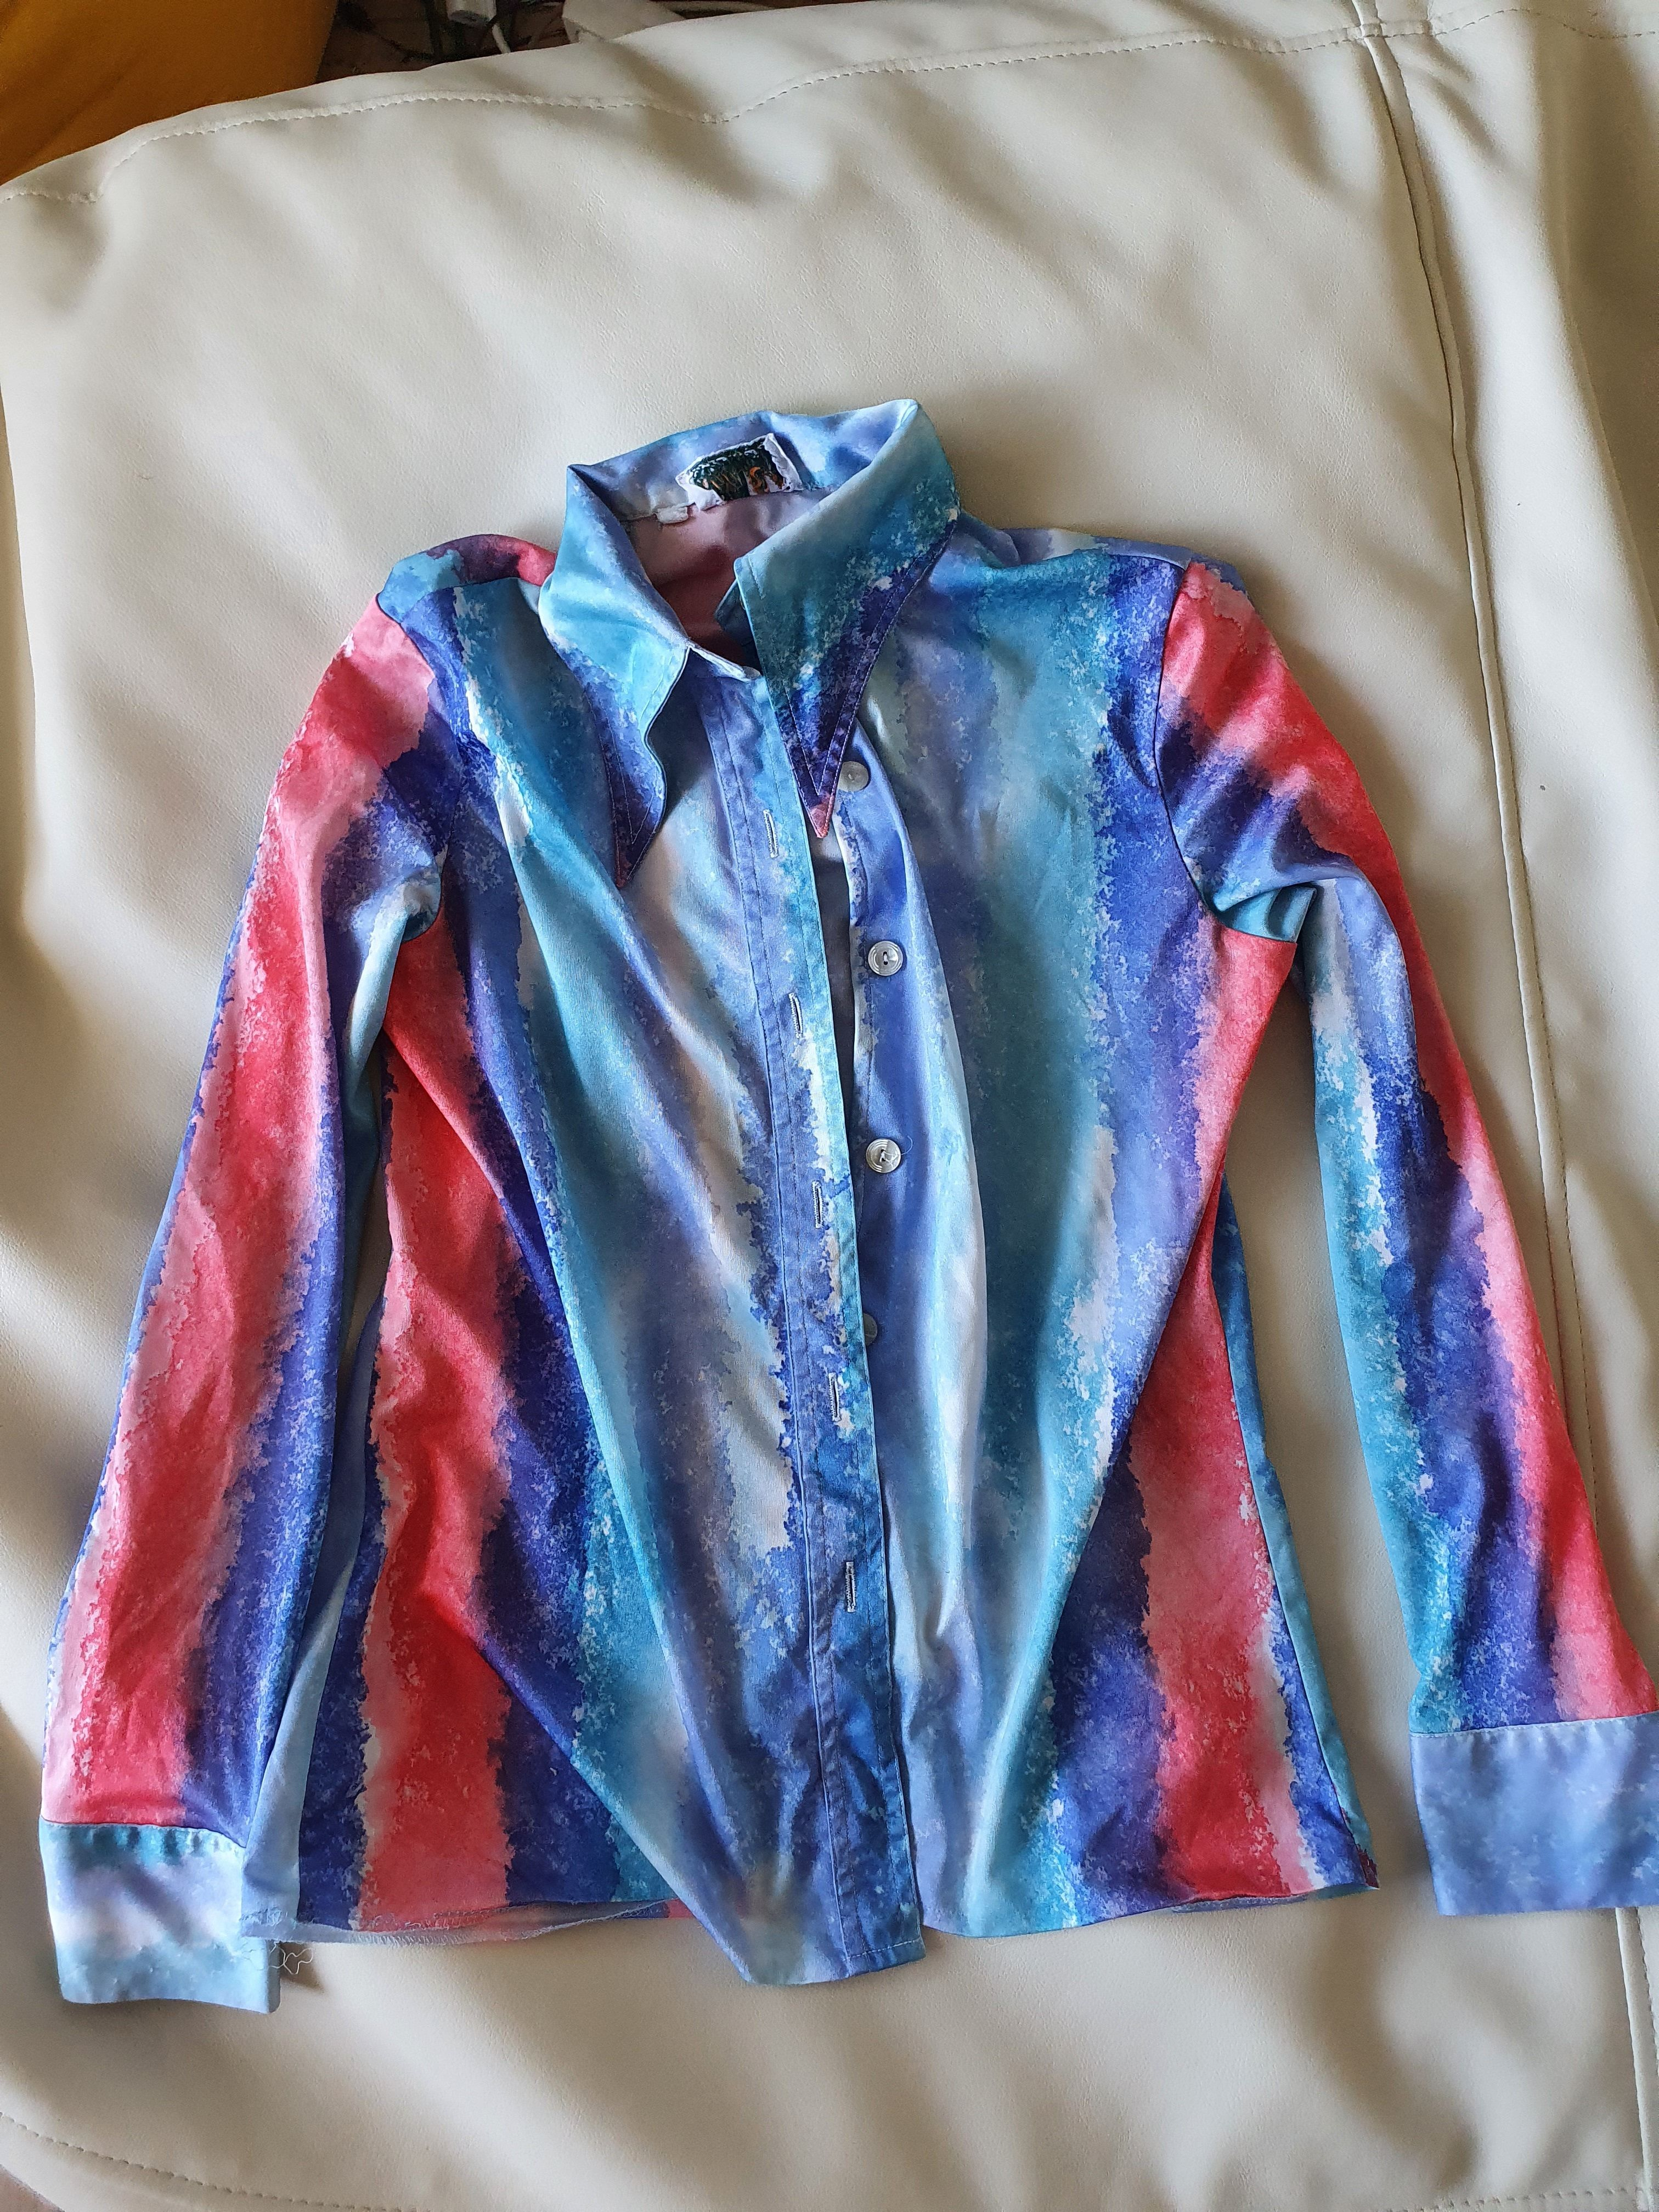clothes: (49, 402, 1659, 2000)
